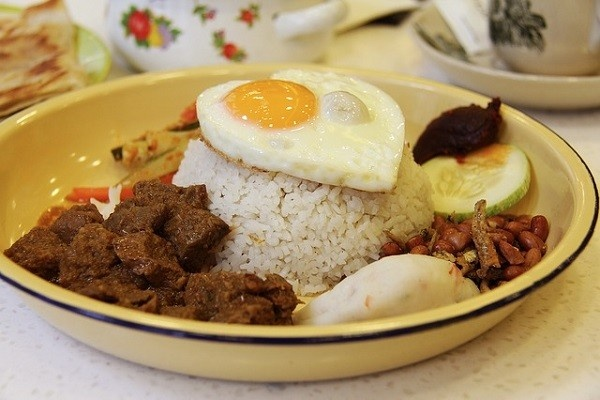rendang: (3, 175, 300, 329)
